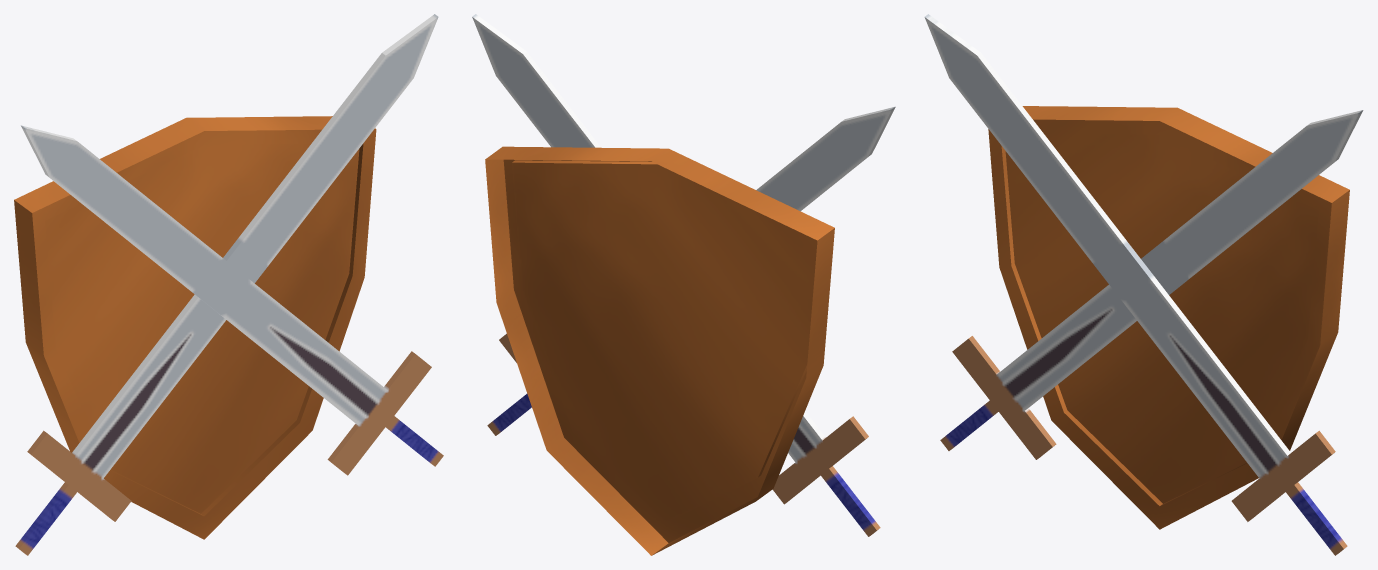
The model's file is DungeonShield.fbx.
3 renders of one model, left to right at view 1: azimuth 30°, elevation 25°; view 2: azimuth 150°, elevation 25°; view 3: azimuth 330°, elevation 25°, orthographic. The views are drawn at different scales.
Parts seen in each view (by area): view 1: pCube167, pCube168, pCube169; view 2: pCube167, pCube168, pCube169; view 3: pCube167, pCube169, pCube168.
Part boxes in pixels (x1=…): pCube167: x1=14, y1=116, x2=376, y2=539; pCube168: x1=15, y1=14, x2=438, y2=555; pCube169: x1=21, y1=125, x2=443, y2=475; pCube167: x1=485, y1=146, x2=834, y2=555; pCube168: x1=472, y1=14, x2=880, y2=536; pCube169: x1=487, y1=106, x2=895, y2=435; pCube167: x1=988, y1=106, x2=1349, y2=529; pCube169: x1=924, y1=14, x2=1347, y2=555; pCube168: x1=940, y1=110, x2=1363, y2=459.
Bounding box in the file's own units: 62.85 × 68.25 × 11.76.
